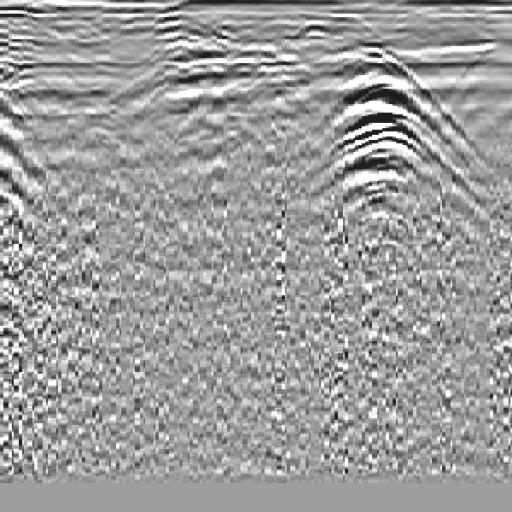metalic: (280, 34, 504, 274)
